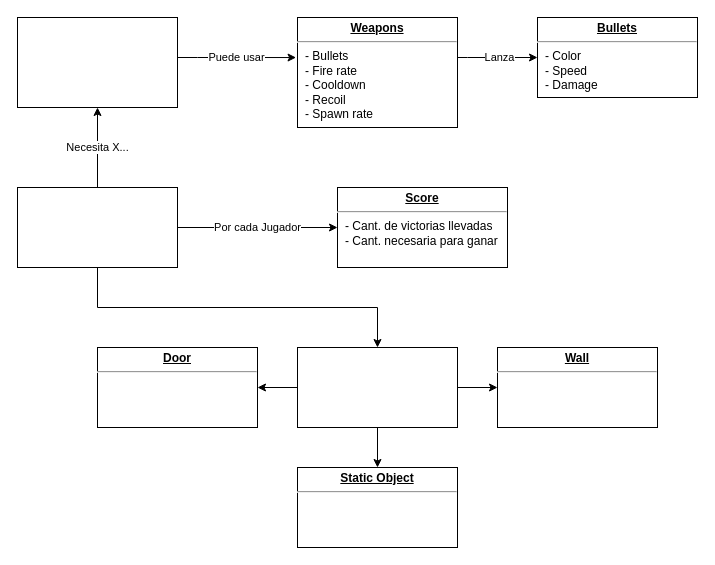
The diagram is 715 pixels wide and 565 high, and some of its shapes have lost their labels. The box of each missing label's shape, as (x1, y1, x2, y2) in pixels:
Character - Health - Skin - State: (16, 16, 178, 108)
Map: (296, 346, 458, 428)
Match - Mapa - Cant. max de Jugadores - Cant. de Jugadores: (16, 186, 178, 268)
